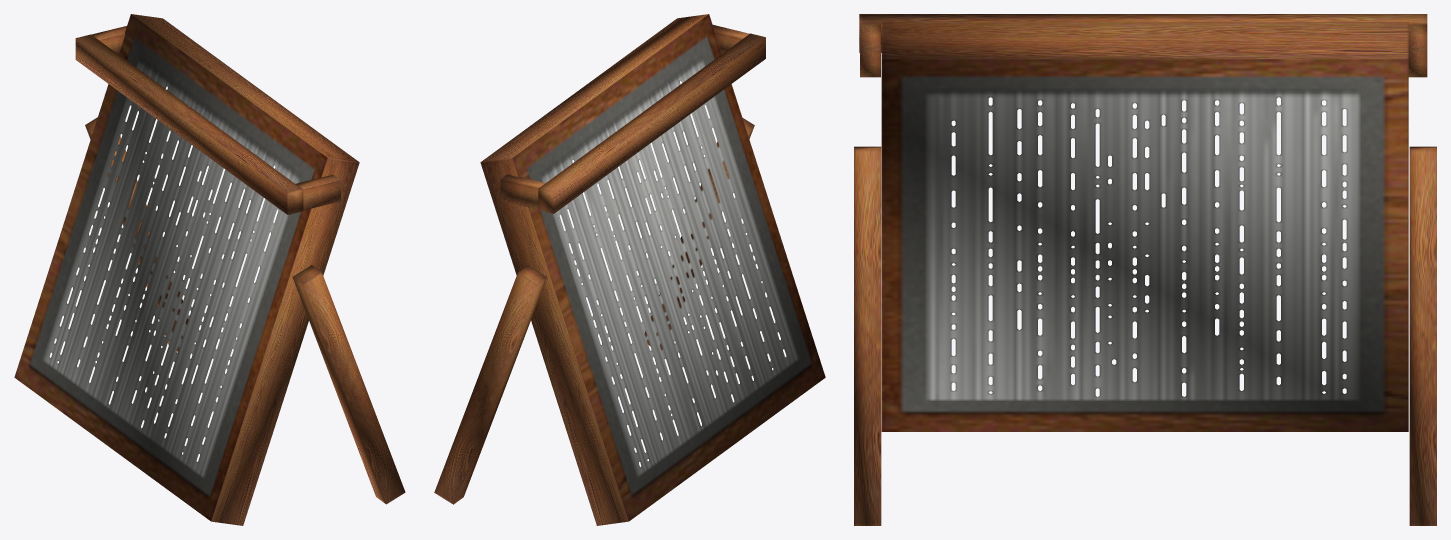
The picture shows the model from 3 angles, left to right: view 1: azimuth 30°, elevation 25°; view 2: azimuth 150°, elevation 25°; view 3: azimuth 270°, elevation 25°; orthographic projection. The views are drawn at different scales.
Parts seen in each view (by area): view 1: it128; view 2: it128; view 3: it128.
Part boxes in pixels (x1,y1,x2,y2): it128: [14, 14, 405, 525]; it128: [434, 14, 825, 525]; it128: [854, 14, 1436, 525].
Size of the model in its own units: 5.4 by 9.83 by 11.06.
2 materials, 2 textured.
